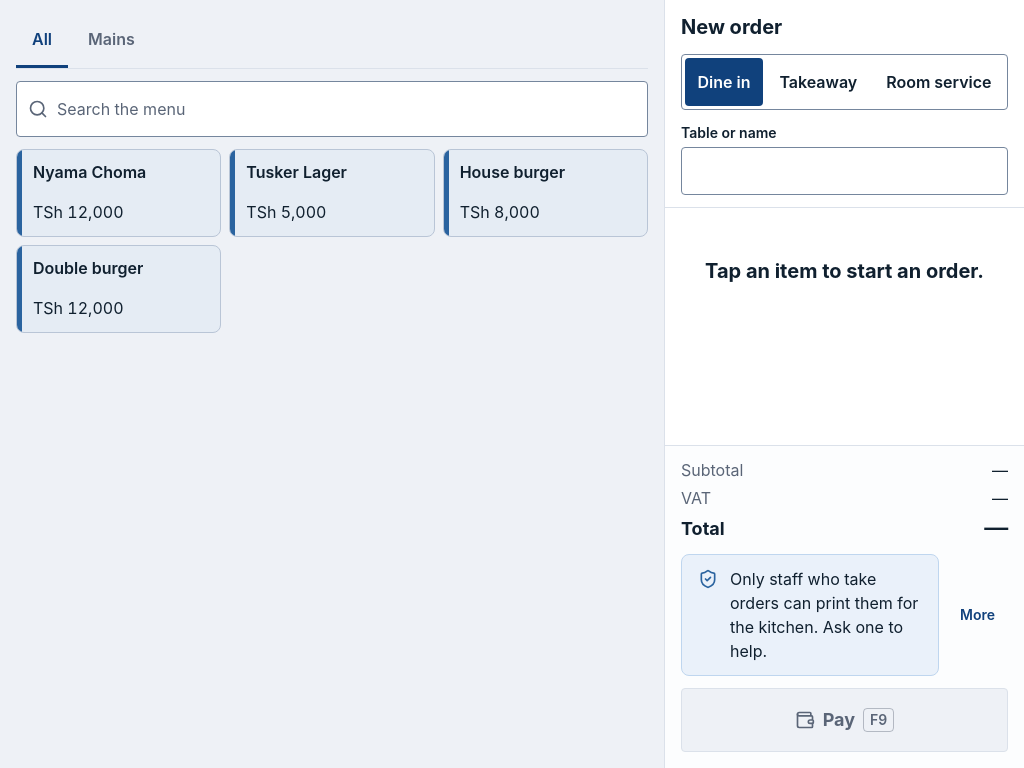
Test: NewOrder › isn't in More for a person who can't send an order
The width and height of the screenshot is (1024, 768).
Click the button with test id "menu-Nyama Choma". click: (119,193)
box: x1=16 y1=149 x2=221 y2=237
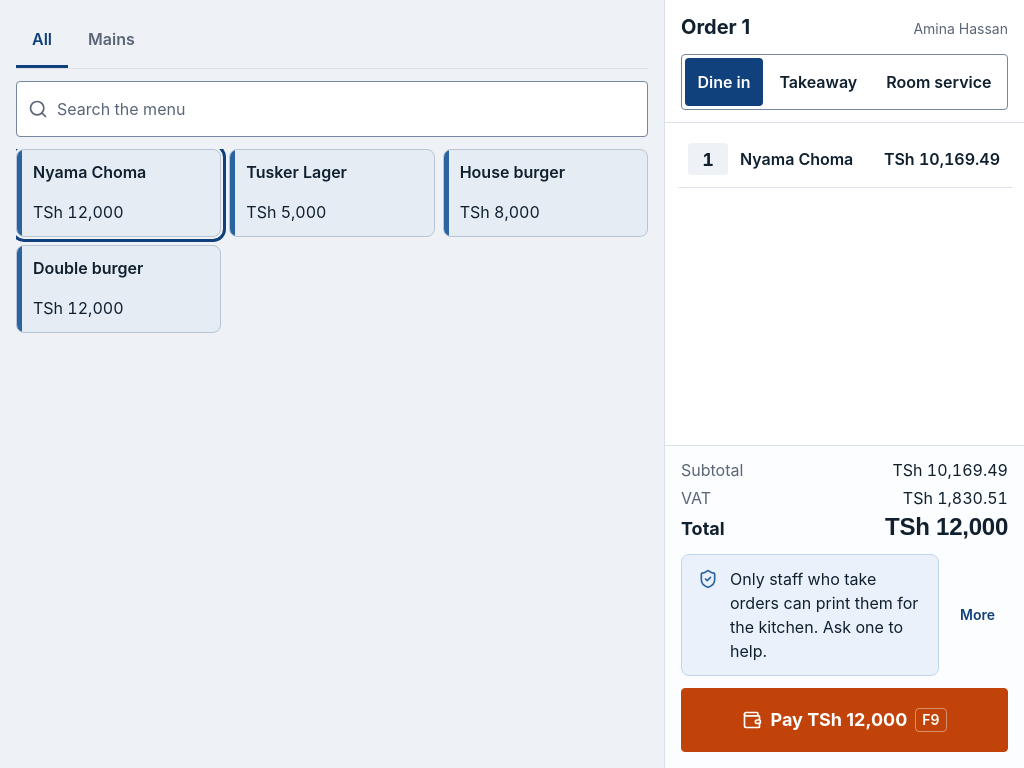
Click the button "More". click: (978,615)
box: x1=947 y1=587 x2=1008 y2=643
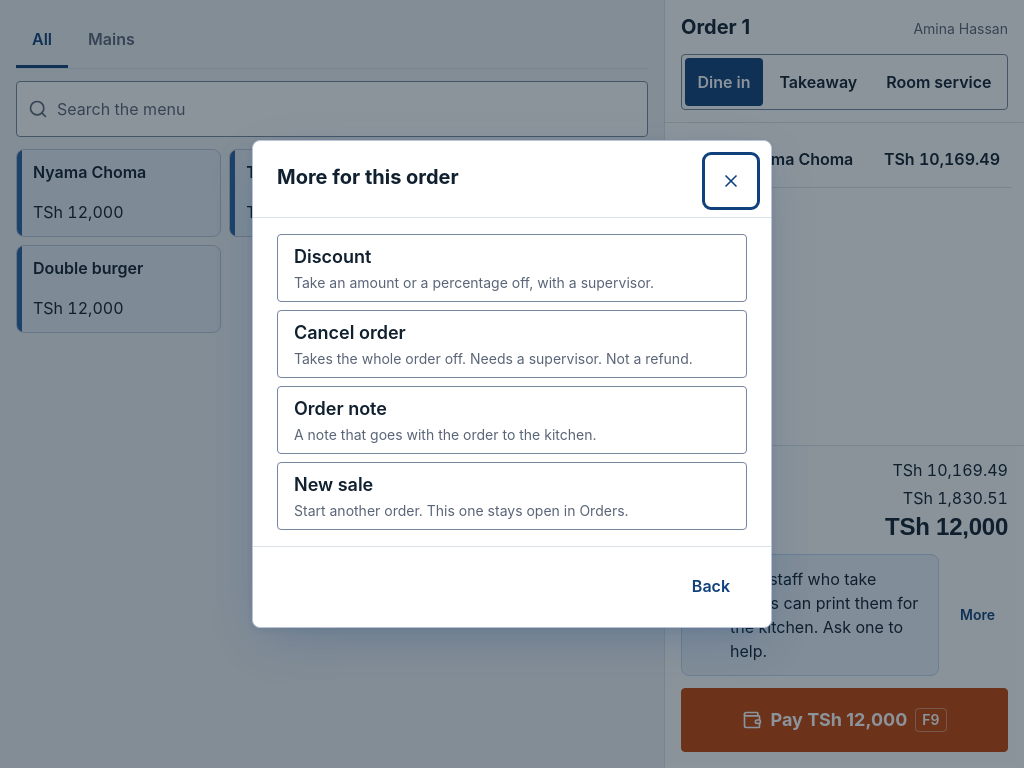
Result: the button "Order note A note that goes with the order to the kitchen." is shown at x1=277 y1=386 x2=747 y2=454
